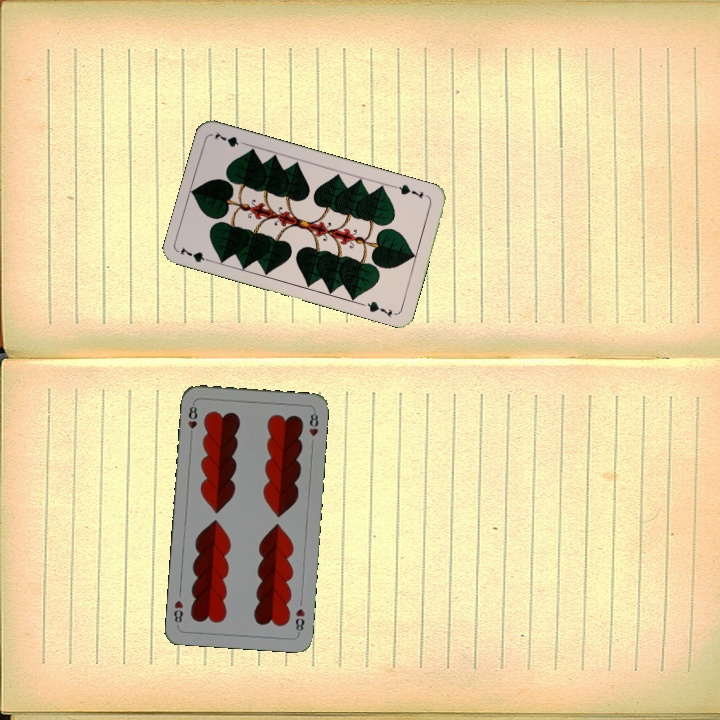G7: (176, 243, 216, 265), (391, 180, 431, 201)
H8: (184, 400, 200, 440), (291, 604, 307, 636)
